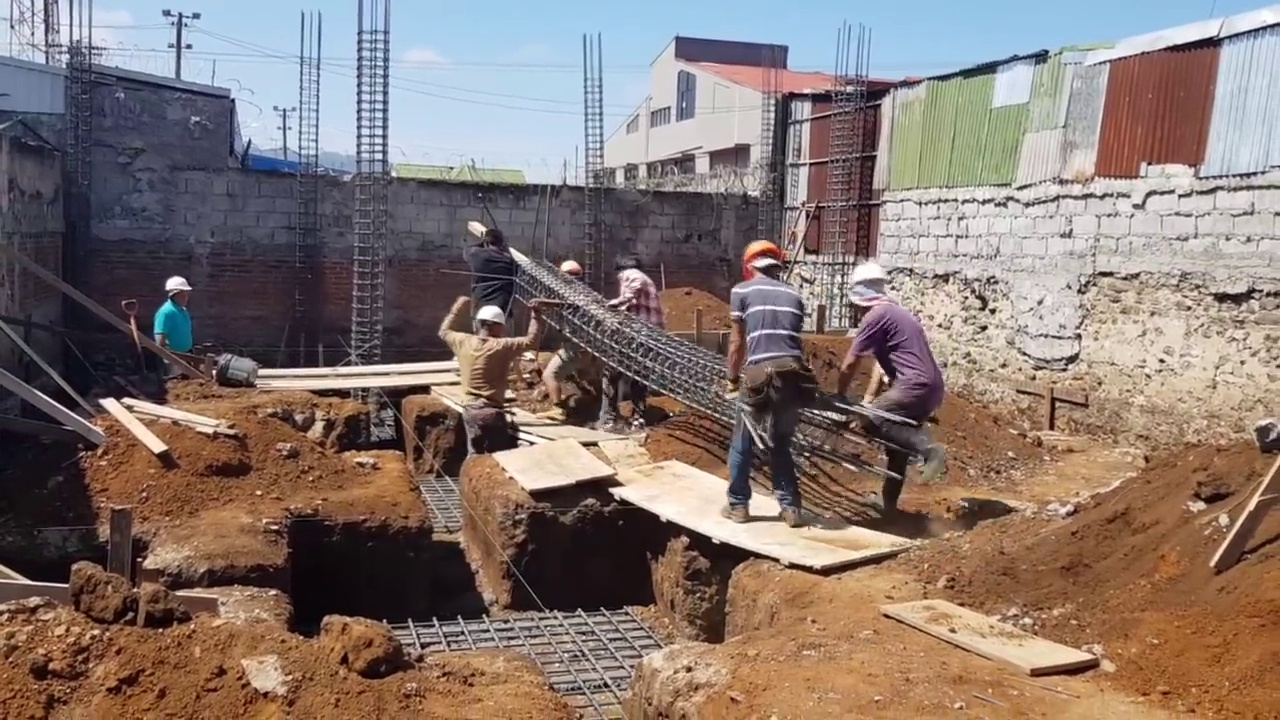helmet: (742, 240, 780, 281), (846, 262, 892, 289), (476, 304, 506, 325), (164, 275, 193, 291), (560, 259, 583, 275)
helmet-off: (614, 252, 641, 275), (482, 228, 506, 253)
helmet-on: (845, 262, 892, 313), (742, 239, 784, 284), (473, 304, 506, 340), (164, 275, 194, 309), (560, 257, 585, 285)
person: (834, 262, 943, 518), (721, 237, 808, 528), (438, 297, 541, 455), (596, 251, 666, 432), (544, 254, 601, 424), (462, 227, 516, 320), (154, 275, 194, 355)
